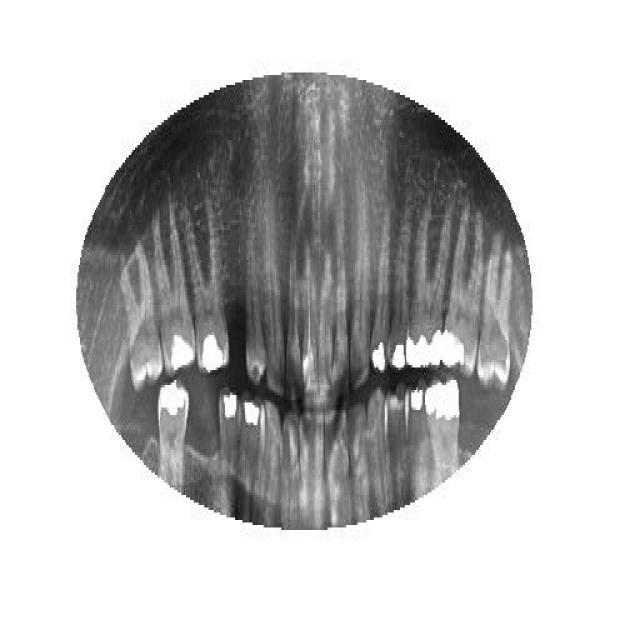Fillings: (181, 198, 229, 378), (406, 195, 452, 375), (151, 205, 195, 375), (444, 197, 485, 375), (426, 378, 460, 482), (158, 380, 190, 490), (370, 208, 390, 378), (390, 208, 410, 370), (240, 388, 261, 522), (220, 388, 240, 528), (403, 385, 428, 495)
